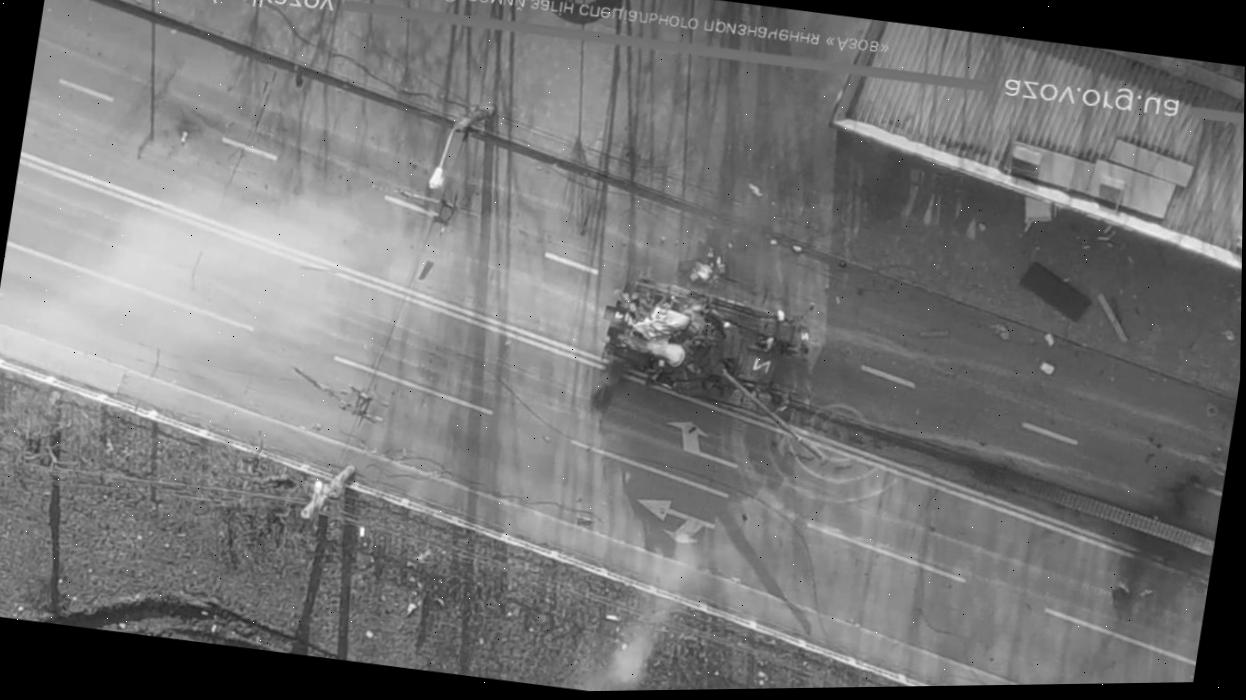tank: (585, 269, 849, 465)
